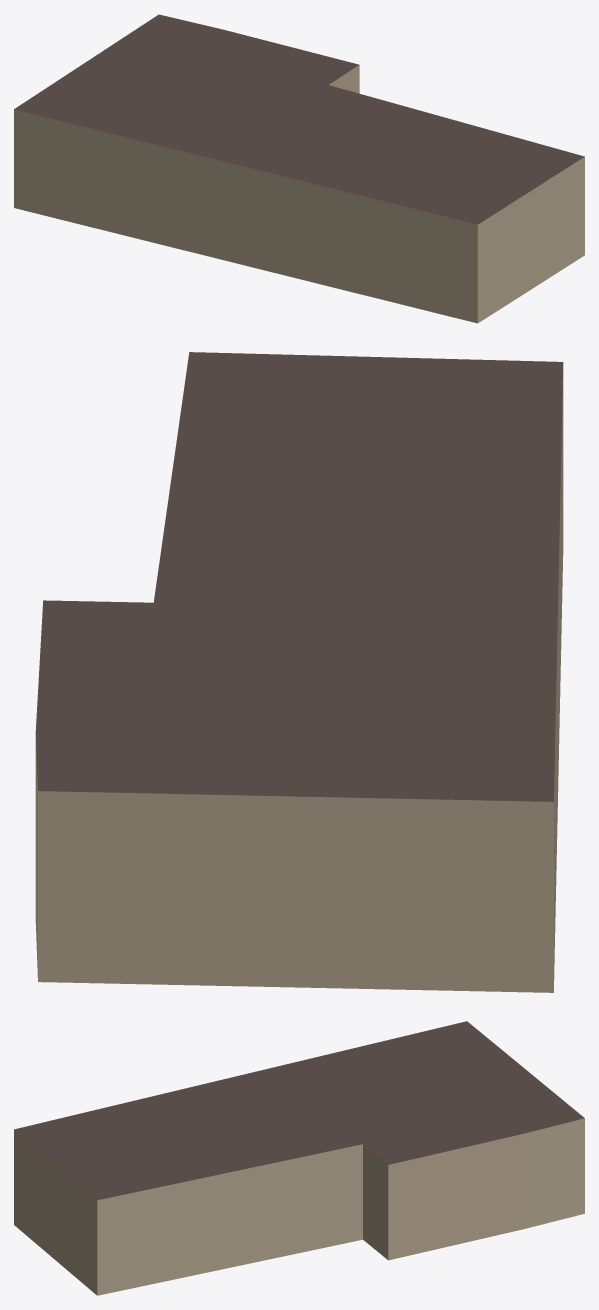
3 views of the same model, one above another, from view 1: azimuth 30°, elevation 25°; view 2: azimuth 150°, elevation 25°; view 3: azimuth 270°, elevation 25° (orthographic). The views are drawn at different scales.
Visible parts, largest first — view 1: HP-w369238023; view 2: HP-w369238023; view 3: HP-w369238023.
Boxes of the visible parts, bbox=[...] form: HP-w369238023: bbox=[14, 14, 584, 323]; HP-w369238023: bbox=[35, 352, 563, 992]; HP-w369238023: bbox=[14, 1021, 584, 1295].
Bounding box in the file's own units: 36.22 × 9 × 48.77.
